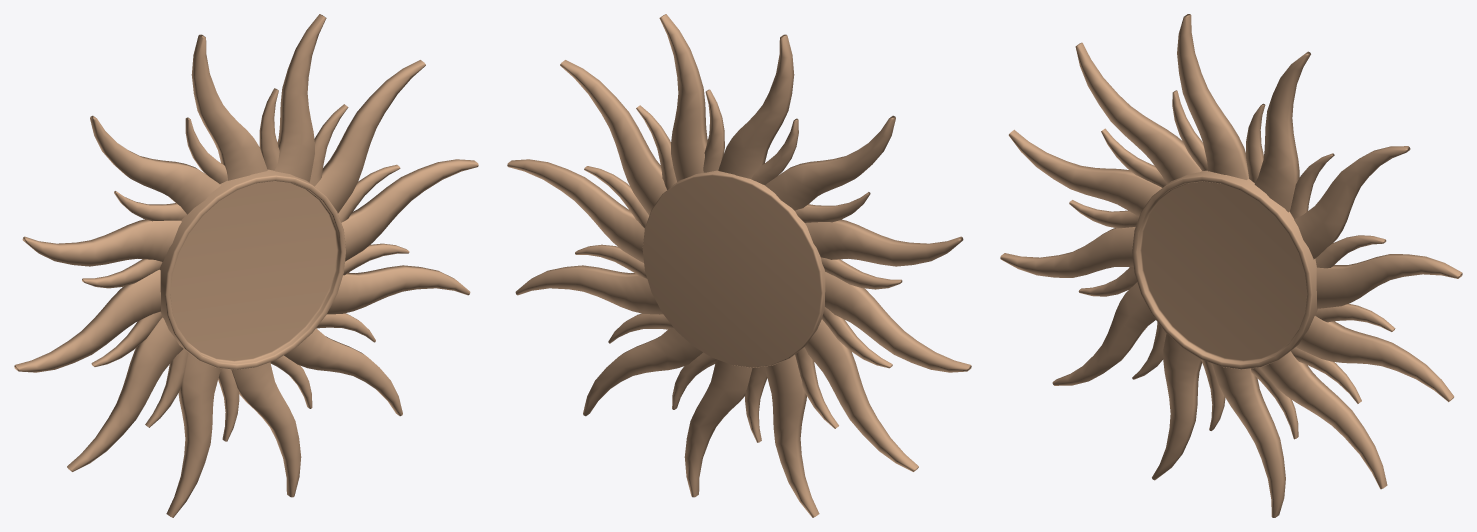
Rendered from sun_decor_L.fbx.
3 renders of one model, left to right at view 1: azimuth 30°, elevation 25°; view 2: azimuth 150°, elevation 25°; view 3: azimuth 330°, elevation 25°, orthographic.
Visible parts, largest first — view 1: sun_decor_L; view 2: sun_decor_L; view 3: sun_decor_L.
Boxes of the visible parts, bbox=[...] form: sun_decor_L: bbox=[14, 14, 478, 517]; sun_decor_L: bbox=[507, 14, 971, 517]; sun_decor_L: bbox=[1000, 14, 1462, 517].
Size of the model in its own units: 61.42 by 61.42 by 4.06.
